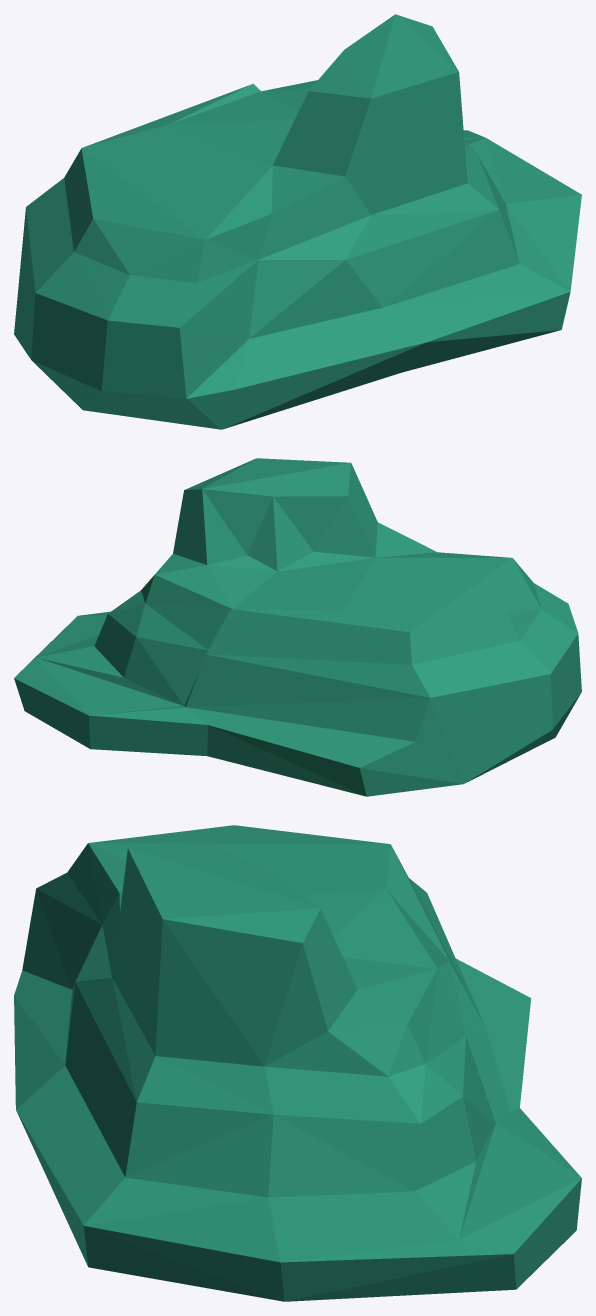
The model's file is SM_B_Dirtpile_02.fbx.
3 renders of one model, top to bottom at view 1: azimuth 30°, elevation 25°; view 2: azimuth 150°, elevation 25°; view 3: azimuth 270°, elevation 25°, orthographic. The views are drawn at different scales.
Parts seen in each view (by area): view 1: SM_B_Dirtpile_02; view 2: SM_B_Dirtpile_02; view 3: SM_B_Dirtpile_02.
Boxes of the visible parts, x1,y1,x2,y2 form: SM_B_Dirtpile_02: (14,14,581,429); SM_B_Dirtpile_02: (14,458,581,796); SM_B_Dirtpile_02: (14,825,581,1301).
Size of the model in its own units: 551 by 243 by 395.
